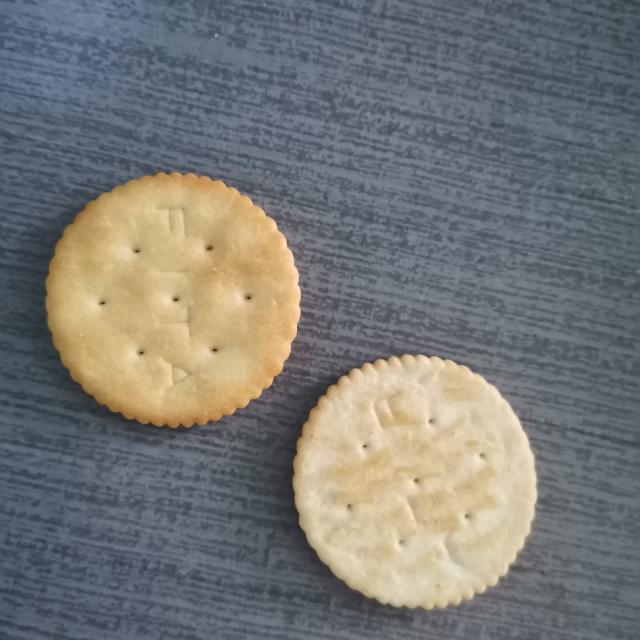Intact: (37, 157, 315, 441), (282, 344, 555, 617)
